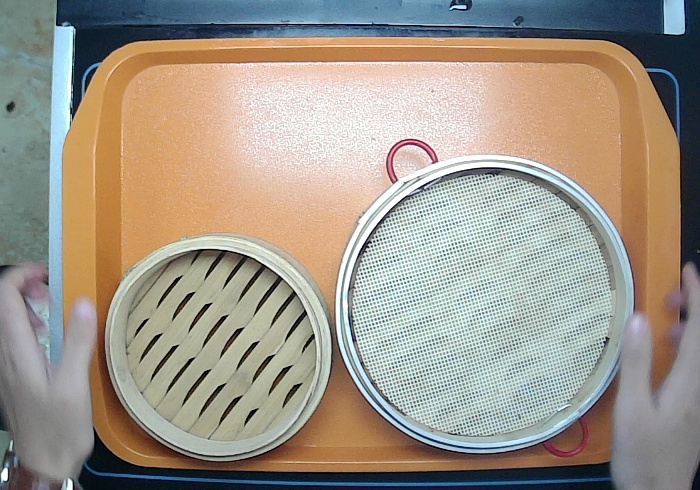ZNLD-Da_Zheng_Long: (335, 136, 638, 459)
ZNLD-Xiao_Zheng_Long: (100, 236, 336, 465)
